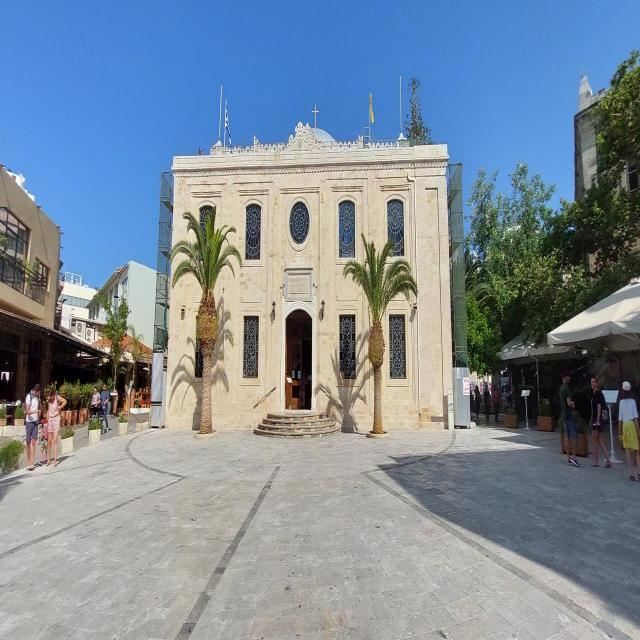Agios Titos: (171, 126, 455, 447)
